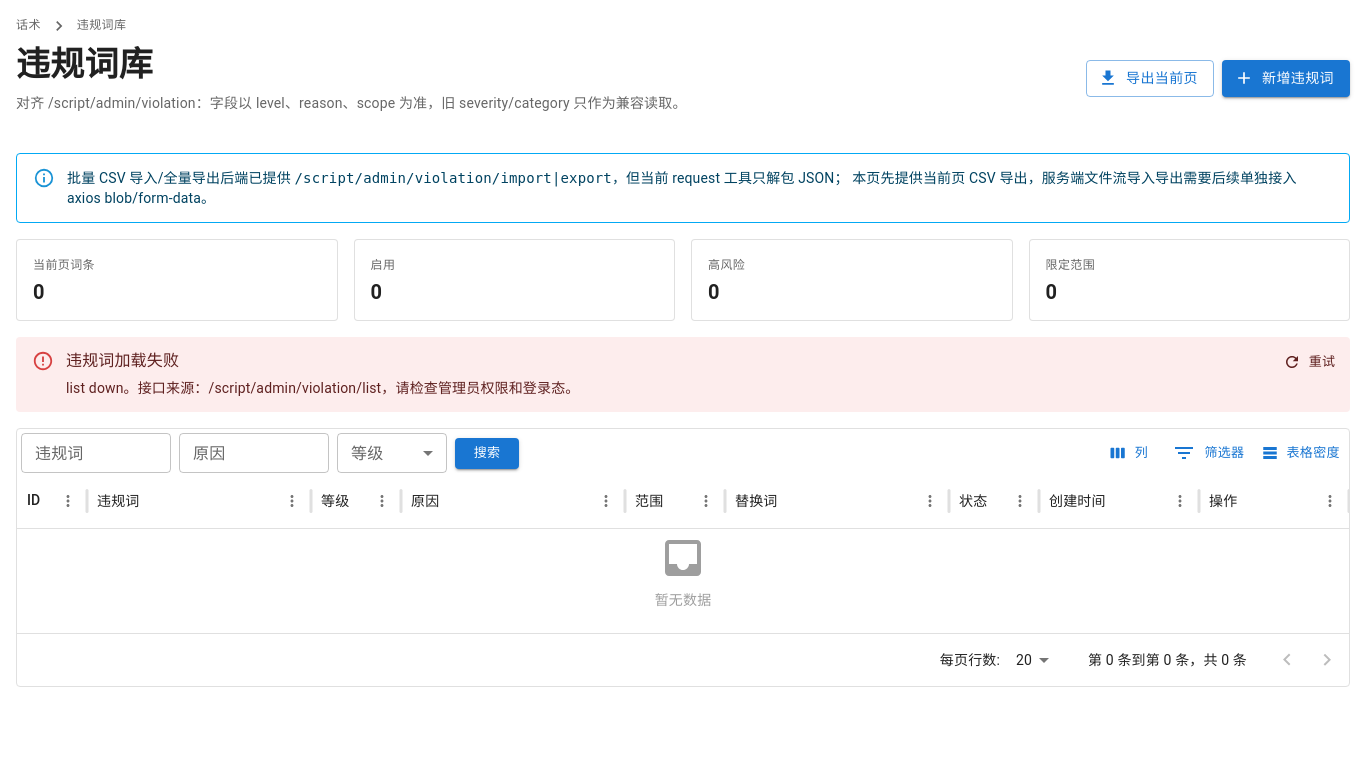
Test: Script edge pages › ViolationWordPage keeps operation failures visible with endpoint source
This screenshot has width=1366, height=768.
expect the text "list down。接口来源：/script/admin/violation/list，请检查管理员权限和登录态。" is shown: met, box [66, 378, 580, 398]
Click the button "重试": [1310, 362] box [1278, 347, 1342, 378]
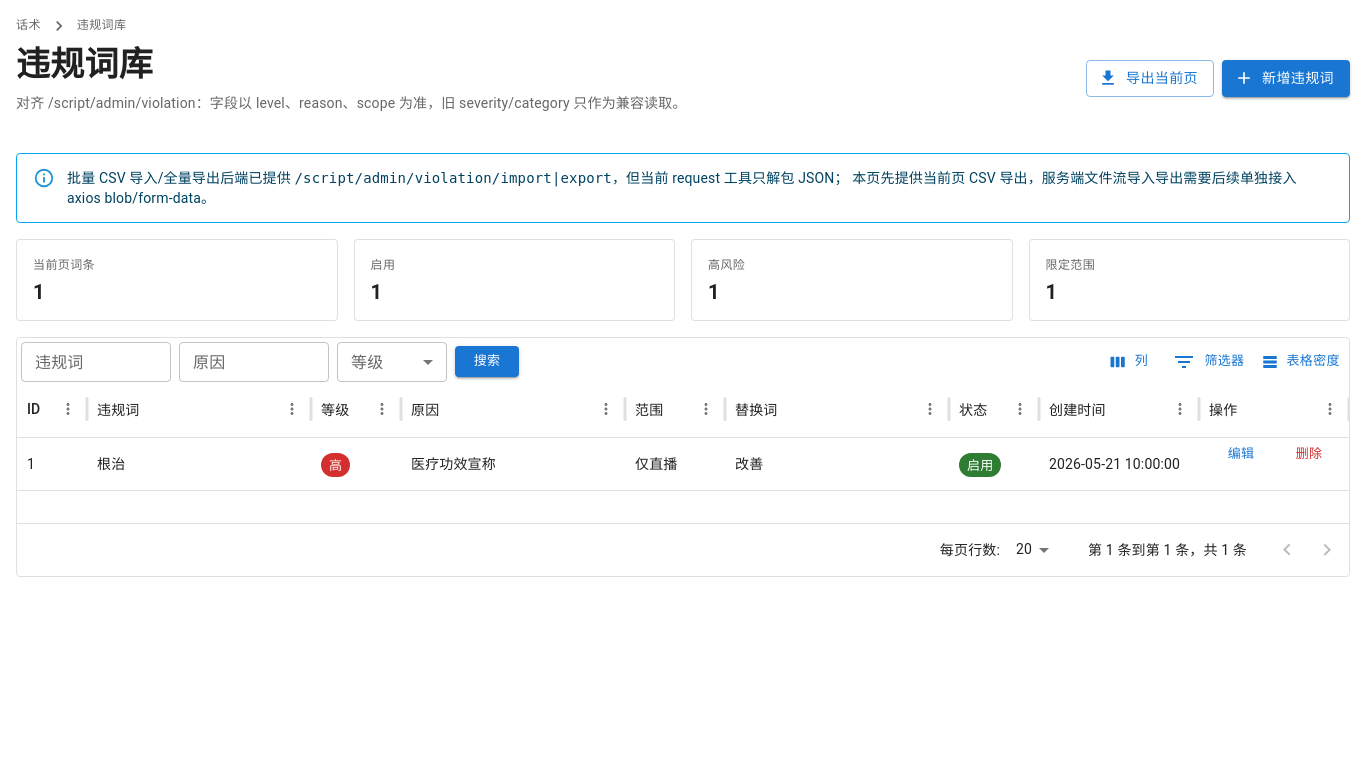
expect the text "根治" is shown: met, box [97, 456, 125, 472]
Click the button "编辑": [1241, 454] box [1209, 439, 1273, 470]
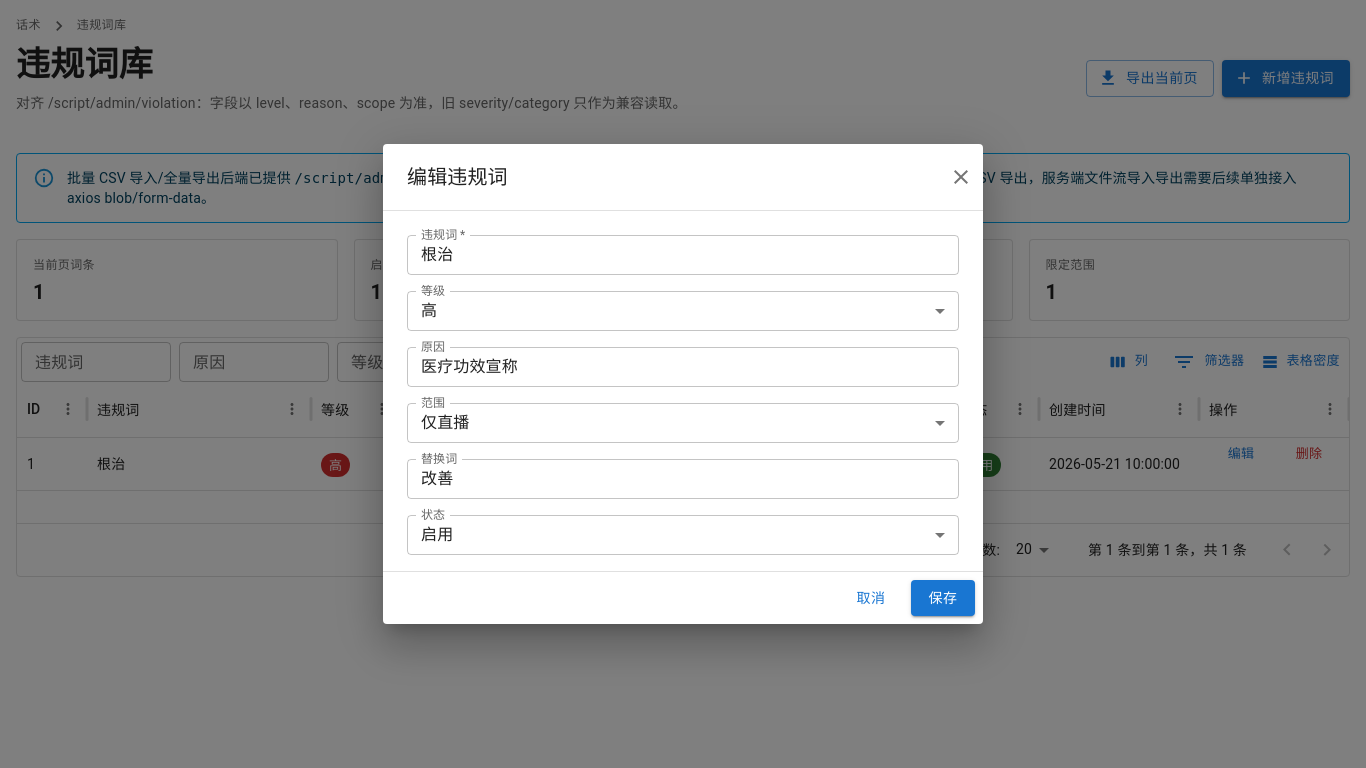
Click the button "保存": [943, 598] box [911, 580, 975, 616]
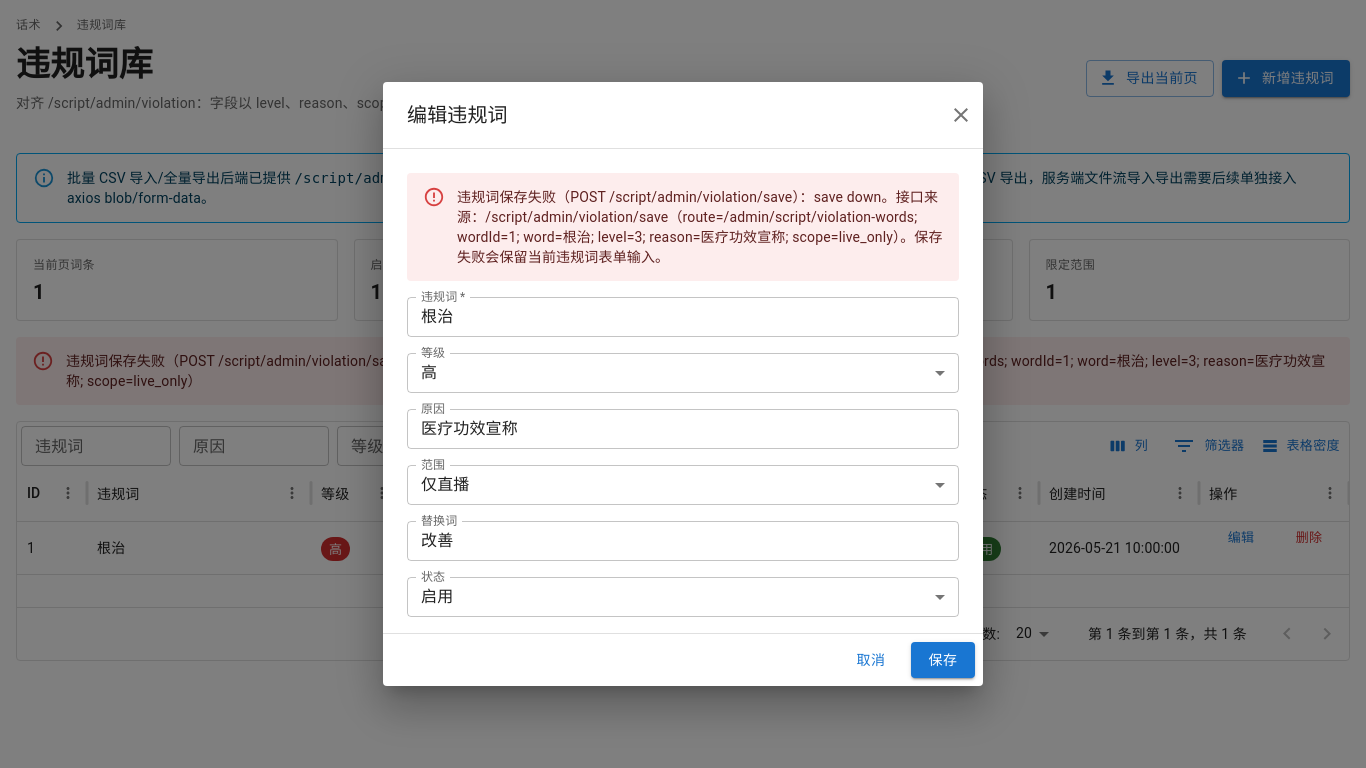
expect the field labelled "违规词 *" holds "根治": met, box [407, 297, 959, 337]
expect the text "word=根治" is shown: met, box [66, 353, 1325, 389]
Click the button "取消": [871, 660] box [839, 642, 903, 678]
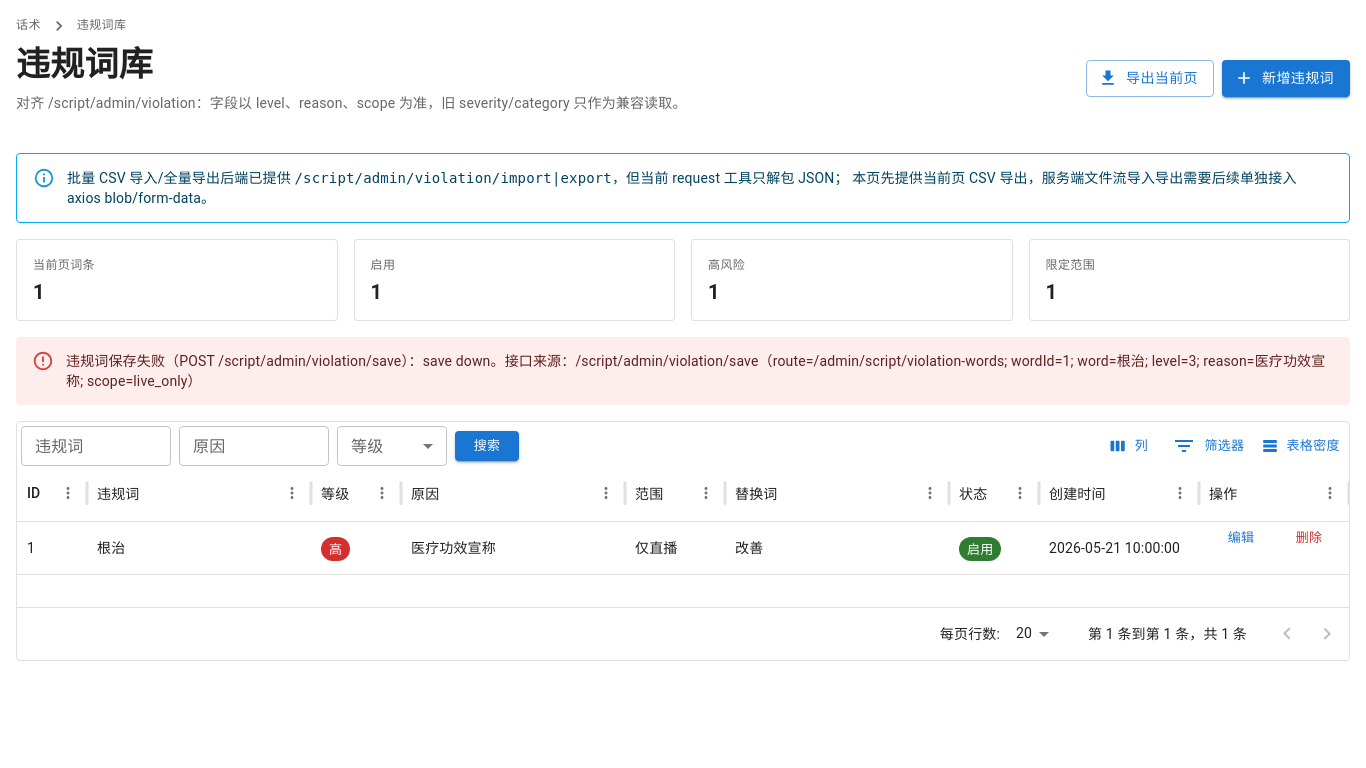
expect the text "编辑违规词" is gone: met
Click the button "删除": [1309, 538] box [1277, 523, 1341, 554]
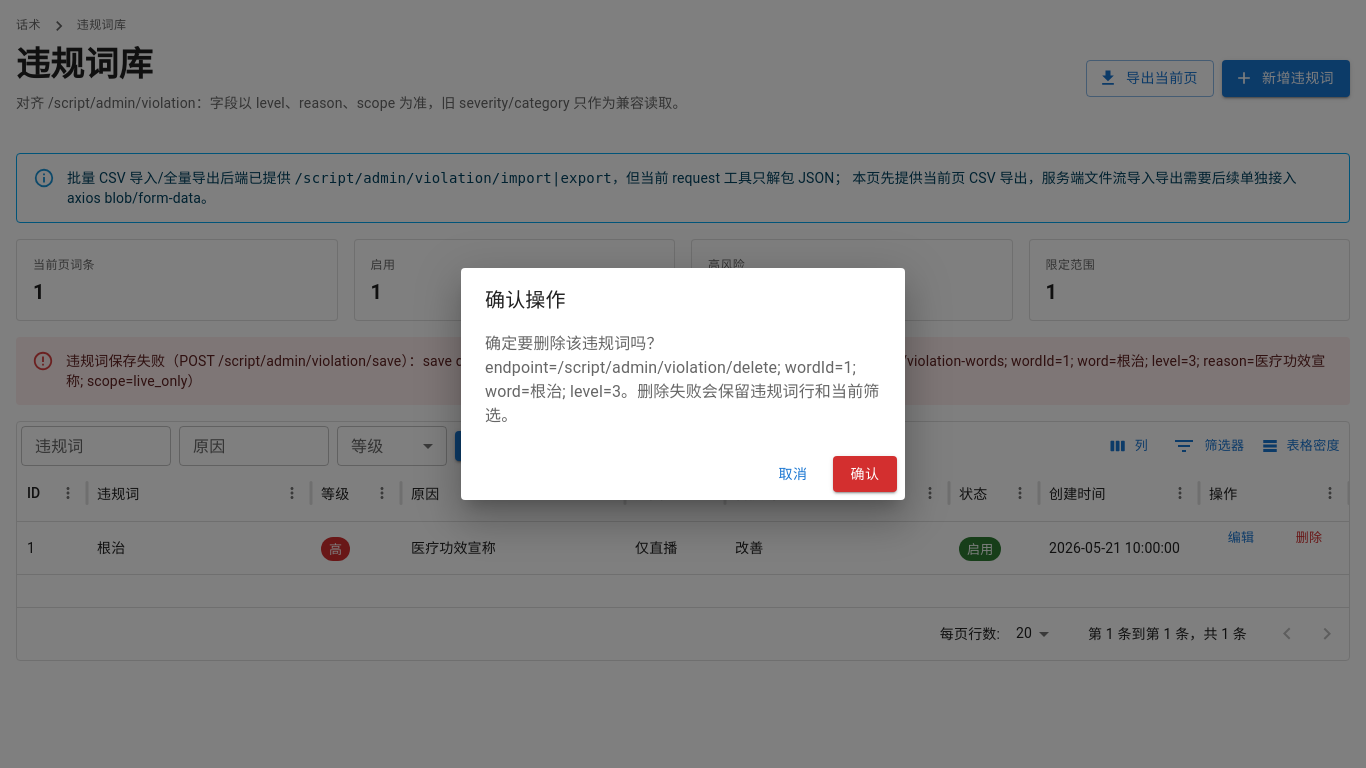
Click the button "确认": [865, 474] box [833, 456, 897, 492]
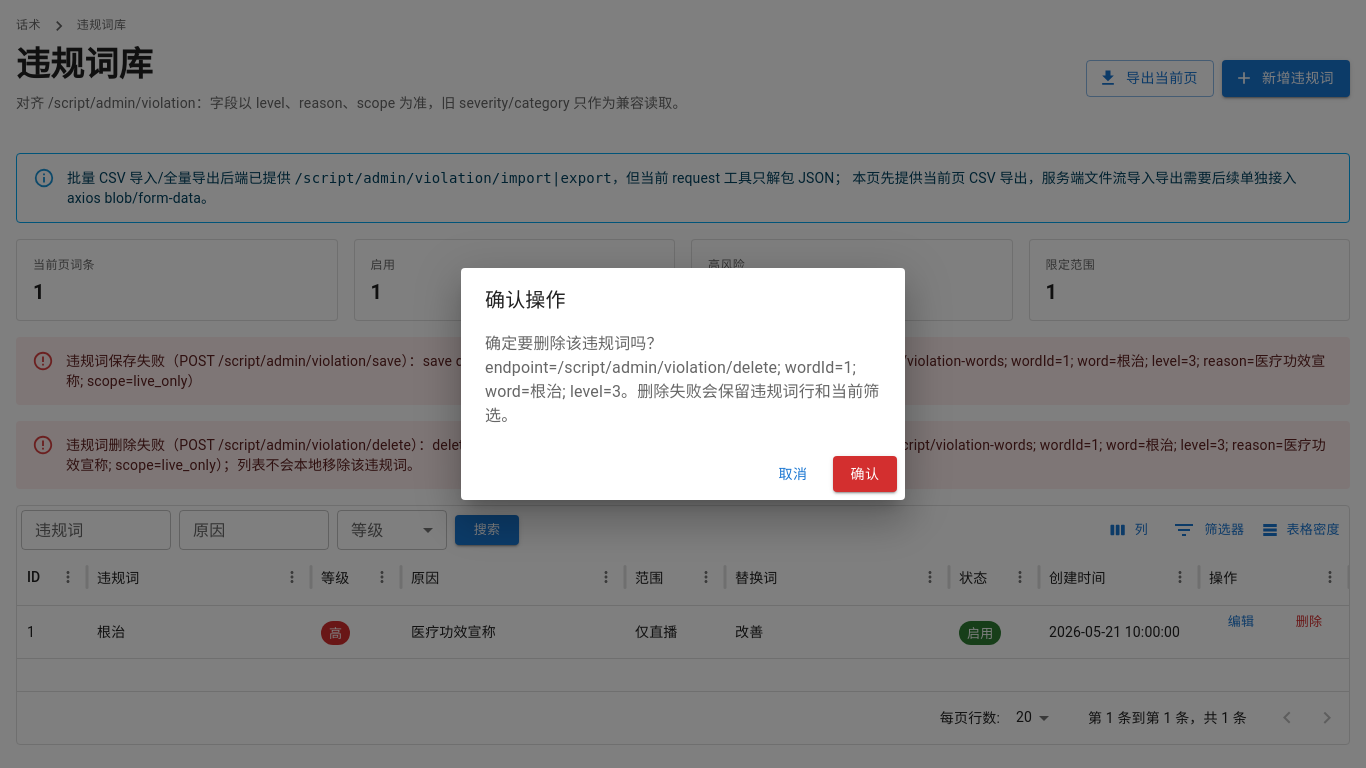
expect the text "wordId=1; word=根治" is shown: met, box [66, 353, 1325, 389]
expect the text "根治" is shown: met, box [97, 624, 125, 640]
expect the text "接口来源：/script/admin/violation/delete" is shown: met, box [66, 437, 1326, 473]
